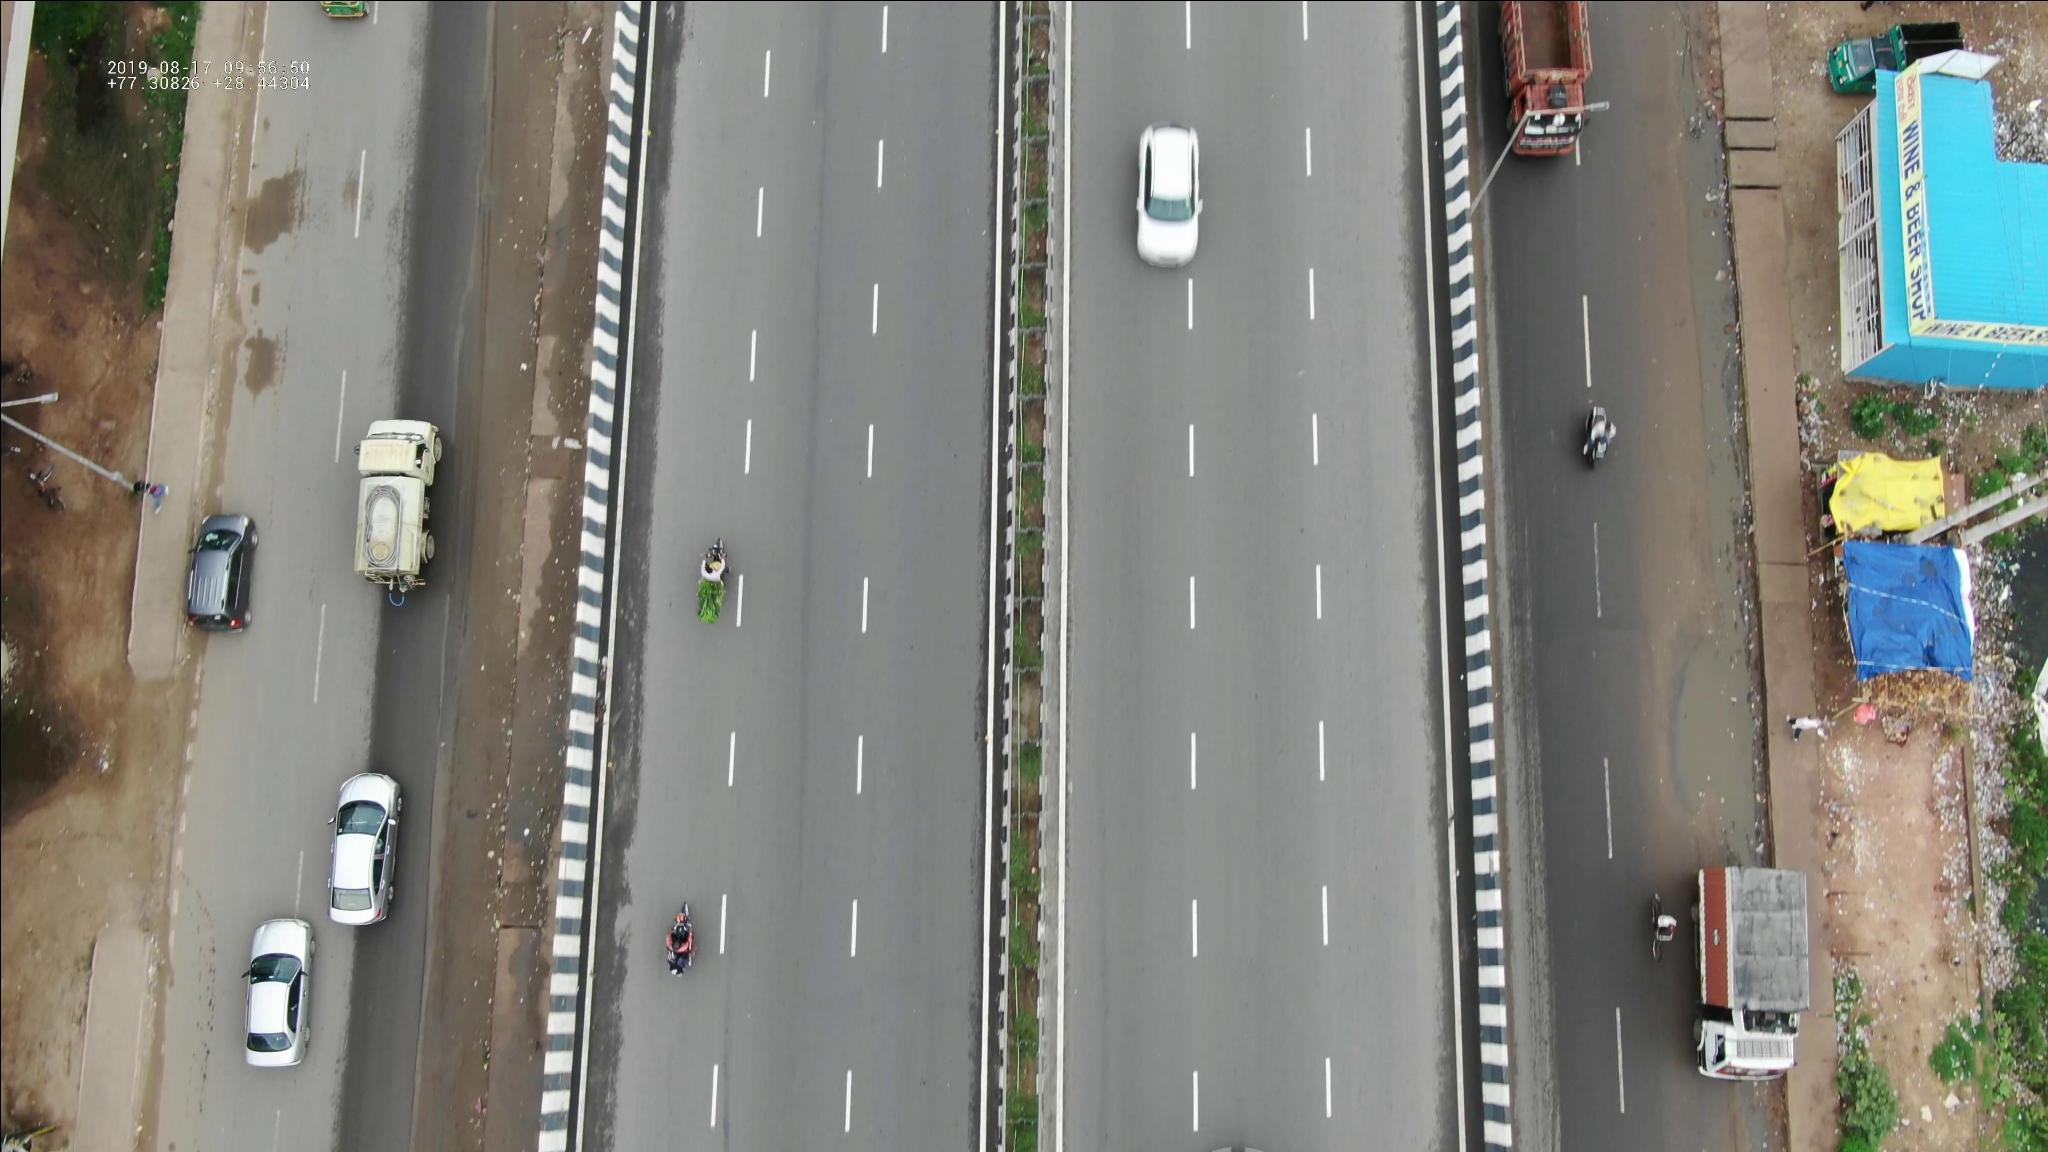Waterlogging: (1620, 487, 1769, 850), (1644, 38, 1739, 446)
